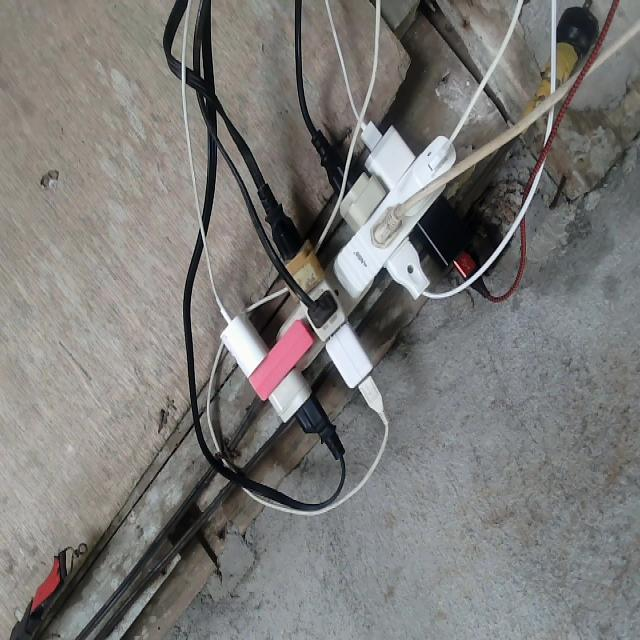-: (218, 121, 484, 462)
